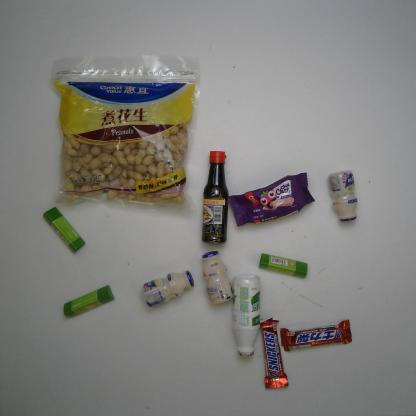Chocolate: (277, 317, 355, 354), (256, 314, 290, 392)
Dessert: (226, 167, 318, 231)
Dried Food: (48, 55, 202, 217)
Milk: (228, 270, 264, 360), (138, 266, 197, 310), (198, 249, 236, 308), (324, 168, 361, 227)
Seasoner: (197, 146, 234, 248)
Stationery: (37, 203, 90, 257), (58, 282, 118, 322), (252, 249, 312, 281)
